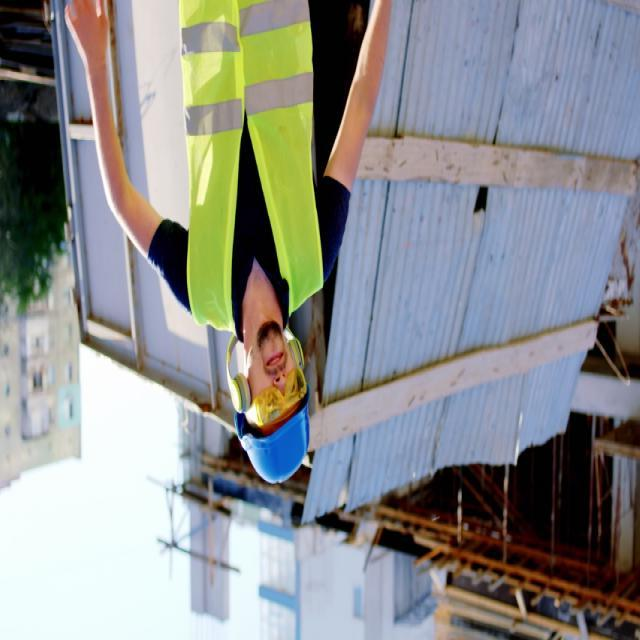safetyhelmet: (233, 313, 314, 486)
